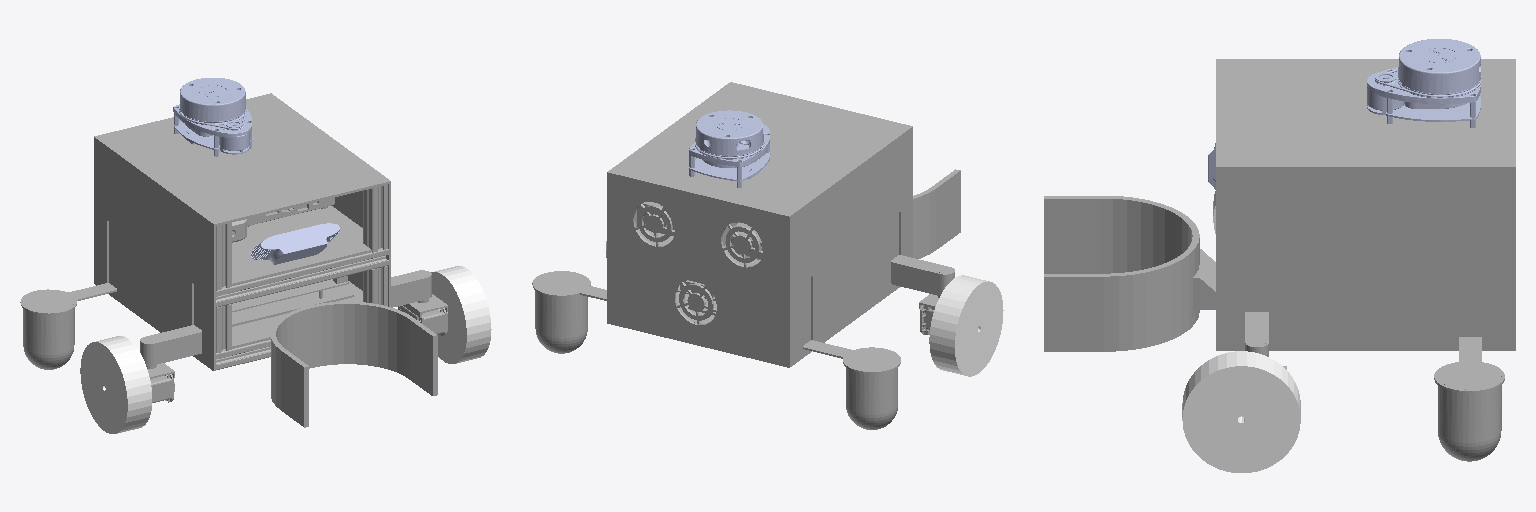
The robot description file, URDF, robot "wb":
<?xml version="1.0" encoding="utf-8"?>
<!-- This URDF was automatically created by SolidWorks to URDF Exporter! Originally created by [author] ([email redacted]) 
     Commit Version: 1.5.1-0-g916b5db  Build Version: 1.5.7152.31018
     For more information, please see http://wiki.ros.org/sw_urdf_exporter -->
<robot
  name="wb">
  <link
    name="base_link">
    <inertial>
      <origin
        xyz="0.000885138044595389 0.091569992471877 -0.0157912683455369"
        rpy="0 0 0" />
      <mass
        value="5.32485366509137" />
      <inertia
        ixx="0.0219378727233069"
        ixy="-4.01751561825068E-06"
        ixz="-1.47975198133798E-06"
        iyy="0.0232029020939231"
        iyz="-8.06521337675044E-06"
        izz="0.0149048926646327" />
    </inertial>
    <visual>
      <origin
        xyz="0 0 0"
        rpy="0 0 0" />
      <geometry>
        <mesh
          filename="package://wb/meshes/base_link.STL" />
      </geometry>
      <material
        name="">
        <color
          rgba="0.752941176470588 0.752941176470588 0.752941176470588 1" />
      </material>
    </visual>
    <collision>
      <origin
        xyz="0 0 0"
        rpy="0 0 0" />
      <geometry>
        <mesh
          filename="package://wb/meshes/base_link.STL" />
      </geometry>
    </collision>
  </link>
  <link
    name="LFS">
    <inertial>
      <origin
        xyz="0.014999 -0.045394 -0.010257"
        rpy="0 0 0" />
      <mass
        value="0.26437" />
      <inertia
        ixx="3.2075E-05"
        ixy="1.6485E-08"
        ixz="-1.5645E-07"
        iyy="6.2915E-05"
        iyz="-2.9641E-09"
        izz="6.2207E-05" />
    </inertial>
    <visual>
      <origin
        xyz="0 0 0"
        rpy="0 0 0" />
      <geometry>
        <mesh
          filename="package://wb/meshes/LFS.STL" />
      </geometry>
      <material
        name="">
        <color
          rgba="0.75294 0.75294 0.75294 1" />
      </material>
    </visual>
    <collision>
      <origin
        xyz="0 0 0"
        rpy="0 0 0" />
      <geometry>
        <mesh
          filename="package://wb/meshes/LFS.STL" />
      </geometry>
    </collision>
  </link>
  <joint
    name="LFS"
    type="fixed">
    <origin
      xyz="0.15547 -0.081499 0.071088"
      rpy="1.5708 0 3.1416" />
    <parent
      link="base_link" />
    <child
      link="LFS" />
    <axis
      xyz="0 0 0" />
  </joint>
  <link
    name="LFW">
    <inertial>
      <origin
        xyz="0.015 0 0"
        rpy="0 0 0" />
      <mass
        value="0.23932" />
      <inertia
        ixx="0.00030041"
        ixy="0"
        ixz="3.9525E-37"
        iyy="0.00016815"
        iyz="1.6518E-36"
        izz="0.00016815" />
    </inertial>
    <visual>
      <origin
        xyz="0 0 0"
        rpy="0 0 0" />
      <geometry>
        <mesh
          filename="package://wb/meshes/LFW.STL" />
      </geometry>
      <material
        name="">
        <color
          rgba="1 1 1 1" />
      </material>
    </visual>
    <collision>
      <origin
        xyz="0 0 0"
        rpy="0 0 0" />
      <geometry>
        <mesh
          filename="package://wb/meshes/LFW.STL" />
      </geometry>
    </collision>
  </link>
  <joint
    name="LFW"
    type="continuous">
    <origin
      xyz="-0.028277 -0.075889 -0.023"
      rpy="3.1416 0 3.1416" />
    <parent
      link="LFS" />
    <child
      link="LFW" />
    <axis
      xyz="1 0 0" />
    <limit
      effort="3.1"
      velocity="7" />
  </joint>
  <link
    name="RFS">
    <inertial>
      <origin
        xyz="0.043348 -0.044691 -0.0097432"
        rpy="0 0 0" />
      <mass
        value="0.26437" />
      <inertia
        ixx="3.2075E-05"
        ixy="-1.6485E-08"
        ixz="1.5645E-07"
        iyy="6.2915E-05"
        iyz="-2.9641E-09"
        izz="6.2207E-05" />
    </inertial>
    <visual>
      <origin
        xyz="0 0 0"
        rpy="0 0 0" />
      <geometry>
        <mesh
          filename="package://wb/meshes/RFS.STL" />
      </geometry>
      <material
        name="">
        <color
          rgba="0.75294 0.75294 0.75294 1" />
      </material>
    </visual>
    <collision>
      <origin
        xyz="0 0 0"
        rpy="0 0 0" />
      <geometry>
        <mesh
          filename="package://wb/meshes/RFS.STL" />
      </geometry>
    </collision>
  </link>
  <joint
    name="RFS"
    type="fixed">
    <origin
      xyz="-0.18382 -0.1015 0.071088"
      rpy="1.5708 0 0" />
    <parent
      link="base_link" />
    <child
      link="RFS" />
    <axis
      xyz="0 0 0" />
  </joint>
  <link
    name="RFW">
    <inertial>
      <origin
        xyz="-0.015 0 0"
        rpy="0 0 0" />
      <mass
        value="0.23932" />
      <inertia
        ixx="0.00030041"
        ixy="0"
        ixz="1.9376E-37"
        iyy="0.00016815"
        iyz="-6.7763E-21"
        izz="0.00016815" />
    </inertial>
    <visual>
      <origin
        xyz="0 0 0"
        rpy="0 0 0" />
      <geometry>
        <mesh
          filename="package://wb/meshes/RFW.STL" />
      </geometry>
      <material
        name="">
        <color
          rgba="1 1 1 1" />
      </material>
    </visual>
    <collision>
      <origin
        xyz="0 0 0"
        rpy="0 0 0" />
      <geometry>
        <mesh
          filename="package://wb/meshes/RFW.STL" />
      </geometry>
    </collision>
  </link>
  <joint
    name="RFW"
    type="continuous">
    <origin
      xyz="0 -0.075175 -0.023"
      rpy="-0.18687 0 0" />
    <parent
      link="RFS" />
    <child
      link="RFW" />
    <axis
      xyz="1 0 0" />
    <limit
      effort="3.1"
      velocity="7" />
  </joint>
  <link
    name="LBS">
    <inertial>
      <origin
        xyz="-0.0067868 0.0021513 0.059195"
        rpy="0 0 0" />
      <mass
        value="0.11411" />
      <inertia
        ixx="7.8941E-05"
        ixy="1.7655E-21"
        ixz="1.1472E-06"
        iyy="5.1512E-05"
        iyz="3.4904E-21"
        izz="7.839E-05" />
    </inertial>
    <visual>
      <origin
        xyz="0 0 0"
        rpy="0 0 0" />
      <geometry>
        <mesh
          filename="package://wb/meshes/LBS.STL" />
      </geometry>
      <material
        name="">
        <color
          rgba="0.75294 0.75294 0.75294 1" />
      </material>
    </visual>
    <collision>
      <origin
        xyz="0 0 0"
        rpy="0 0 0" />
      <geometry>
        <mesh
          filename="package://wb/meshes/LBS.STL" />
      </geometry>
    </collision>
  </link>
  <joint
    name="LBS"
    type="fixed">
    <origin
      xyz="0.23339 0.055845 -0.008519"
      rpy="-1.5708 0 0.89134" />
    <parent
      link="base_link" />
    <child
      link="LBS" />
    <axis
      xyz="0 0 0" />
  </joint>
  <link
    name="RBS">
    <inertial>
      <origin
        xyz="-0.0067868 0.0021513 0.059195"
        rpy="0 0 0" />
      <mass
        value="0.11411" />
      <inertia
        ixx="7.8941E-05"
        ixy="5.5532E-22"
        ixz="1.1472E-06"
        iyy="5.1512E-05"
        iyz="5.8797E-21"
        izz="7.839E-05" />
    </inertial>
    <visual>
      <origin
        xyz="0 0 0"
        rpy="0 0 0" />
      <geometry>
        <mesh
          filename="package://wb/meshes/RBS.STL" />
      </geometry>
      <material
        name="">
        <color
          rgba="0.75294 0.75294 0.75294 1" />
      </material>
    </visual>
    <collision>
      <origin
        xyz="0 0 0"
        rpy="0 0 0" />
      <geometry>
        <mesh
          filename="package://wb/meshes/RBS.STL" />
      </geometry>
    </collision>
  </link>
  <joint
    name="RBS"
    type="fixed">
    <origin
      xyz="-0.23339 0.12116 -0.008519"
      rpy="-1.5708 0 -2.2503" />
    <parent
      link="base_link" />
    <child
      link="RBS" />
    <axis
      xyz="0 0 0" />
  </joint>
  <link
    name="cam1">
    <inertial>
      <origin
        xyz="0.049836 0.061784 0.068723"
        rpy="0 0 0" />
      <mass
        value="0.043612" />
      <inertia
        ixx="4.2948E-06"
        ixy="-8.8548E-10"
        ixz="-1.0183E-09"
        iyy="2.2106E-05"
        iyz="2.1758E-08"
        izz="2.3571E-05" />
    </inertial>
    <visual>
      <origin
        xyz="0 0 0"
        rpy="0 0 0" />
      <geometry>
        <mesh
          filename="package://wb/meshes/cam1.STL" />
      </geometry>
      <material
        name="">
        <color
          rgba="0.79216 0.81961 0.93333 1" />
      </material>
    </visual>
    <collision>
      <origin
        xyz="0 0 0"
        rpy="0 0 0" />
      <geometry>
        <mesh
          filename="package://wb/meshes/cam1.STL" />
      </geometry>
    </collision>
  </link>
  <joint
    name="cam1"
    type="fixed">
    <origin
      xyz="-0.049835 -0.022219 0.13322"
      rpy="2.3562 0 0" />
    <parent
      link="base_link" />
    <child
      link="cam1" />
    <axis
      xyz="0 0 0" />
  </joint>
  <link
    name="cam2">
    <inertial>
      <origin
        xyz="0.049836 0.061784 0.068723"
        rpy="0 0 0" />
      <mass
        value="0.043612" />
      <inertia
        ixx="4.2948E-06"
        ixy="-8.8579E-10"
        ixz="-1.0181E-09"
        iyy="2.2106E-05"
        iyz="2.1758E-08"
        izz="2.3571E-05" />
    </inertial>
    <visual>
      <origin
        xyz="0 0 0"
        rpy="0 0 0" />
      <geometry>
        <mesh
          filename="package://wb/meshes/cam2.STL" />
      </geometry>
      <material
        name="">
        <color
          rgba="0.79216 0.81961 0.93333 1" />
      </material>
    </visual>
    <collision>
      <origin
        xyz="0 0 0"
        rpy="0 0 0" />
      <geometry>
        <mesh
          filename="package://wb/meshes/cam2.STL" />
      </geometry>
    </collision>
  </link>
  <joint
    name="cam2"
    type="fixed">
    <origin
      xyz="-0.049839 -0.046422 0.10251"
      rpy="1.5708 0 0" />
    <parent
      link="base_link" />
    <child
      link="cam2" />
    <axis
      xyz="0 0 0" />
  </joint>
  <link
    name="Lidar">
    <inertial>
      <origin
        xyz="-0.078493 -0.74443 -0.13345"
        rpy="0 0 0" />
      <mass
        value="0.073085" />
      <inertia
        ixx="1.9581E-05"
        ixy="4.2839E-07"
        ixz="-1.0393E-07"
        iyy="4.1418E-05"
        iyz="-9.4271E-09"
        izz="2.4125E-05" />
    </inertial>
    <visual>
      <origin
        xyz="0 0 0"
        rpy="0 0 0" />
      <geometry>
        <mesh
          filename="package://wb/meshes/Lidar.STL" />
      </geometry>
      <material
        name="">
        <color
          rgba="0.79216 0.81961 0.93333 1" />
      </material>
    </visual>
    <collision>
      <origin
        xyz="0 0 0"
        rpy="0 0 0" />
      <geometry>
        <mesh
          filename="package://wb/meshes/Lidar.STL" />
      </geometry>
    </collision>
  </link>
  <joint
    name="Lidar"
    type="fixed">
    <origin
      xyz="0.13292 -0.027939 -0.53869"
      rpy="-1.5708 0 -1.5708" />
    <parent
      link="base_link" />
    <child
      link="Lidar" />
    <axis
      xyz="0 0 0" />
  </joint>
</robot>

--- Facts derived from the render (not from the file) ---
3 views of the same robot in one strip: view 1: azimuth 30°, elevation 25°; view 2: azimuth 150°, elevation 25°; view 3: azimuth 270°, elevation 25° (orthographic).
Model wb with 10 links and 9 joints (2 continuous, 7 fixed), rooted at base_link, posed all joints at 0.
Visible links, largest first — view 1: base_link, RFW, Lidar, RBS, LFW, RFS, LFS, cam1; view 2: base_link, RFW, Lidar, RBS, LBS, RFS; view 3: base_link, LFW, Lidar, LBS, LFS.
Link boxes in pixels (box(x1,y1,x2,y2)): base_link: box(94, 93, 437, 427); RFW: box(80, 336, 151, 433); Lidar: box(173, 78, 252, 156); RBS: box(20, 283, 116, 369); LFW: box(431, 266, 491, 363); RFS: box(140, 325, 201, 402); LFS: box(391, 270, 447, 335); cam1: box(251, 223, 339, 264); base_link: box(607, 82, 960, 367); RFW: box(929, 275, 1003, 376); Lidar: box(689, 110, 770, 187); RBS: box(803, 340, 900, 429); LBS: box(532, 271, 606, 353); RFS: box(891, 255, 954, 334); base_link: box(1044, 59, 1515, 351); LFW: box(1182, 351, 1300, 472); Lidar: box(1367, 39, 1481, 127); LBS: box(1434, 337, 1504, 461); LFS: box(1245, 312, 1286, 369).
Size in the robot's own frame: 0.4279 by 0.3973 by 0.2893 metres.
Meshes: 10 distinct files referenced, 9 mesh visuals loaded (9 binary STL); not drawn: 1 (reference not matched to a file when rendering).